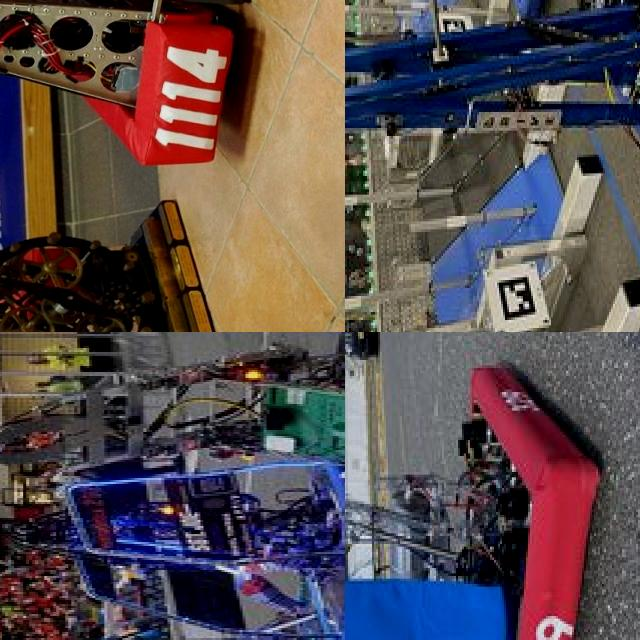FRC-Robots: (345, 363, 639, 640), (345, 0, 640, 245), (0, 0, 277, 189), (44, 491, 345, 609), (126, 332, 345, 467)
